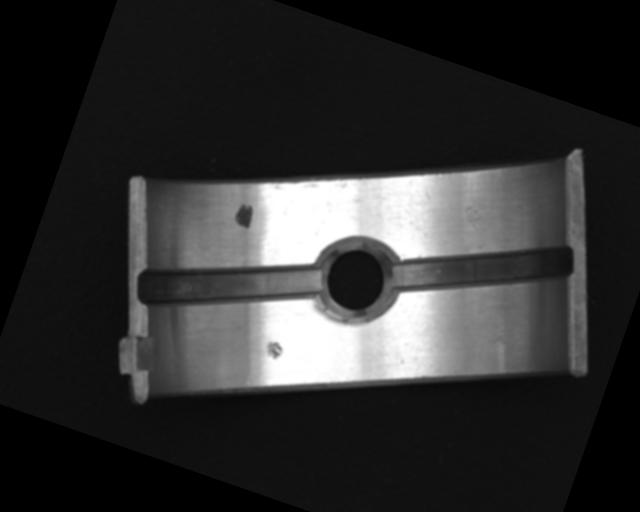blot: (231, 200, 257, 231)
bruise: (261, 338, 286, 362)
gap: (384, 195, 579, 342), (131, 211, 327, 357)
hole: (307, 233, 402, 332)
